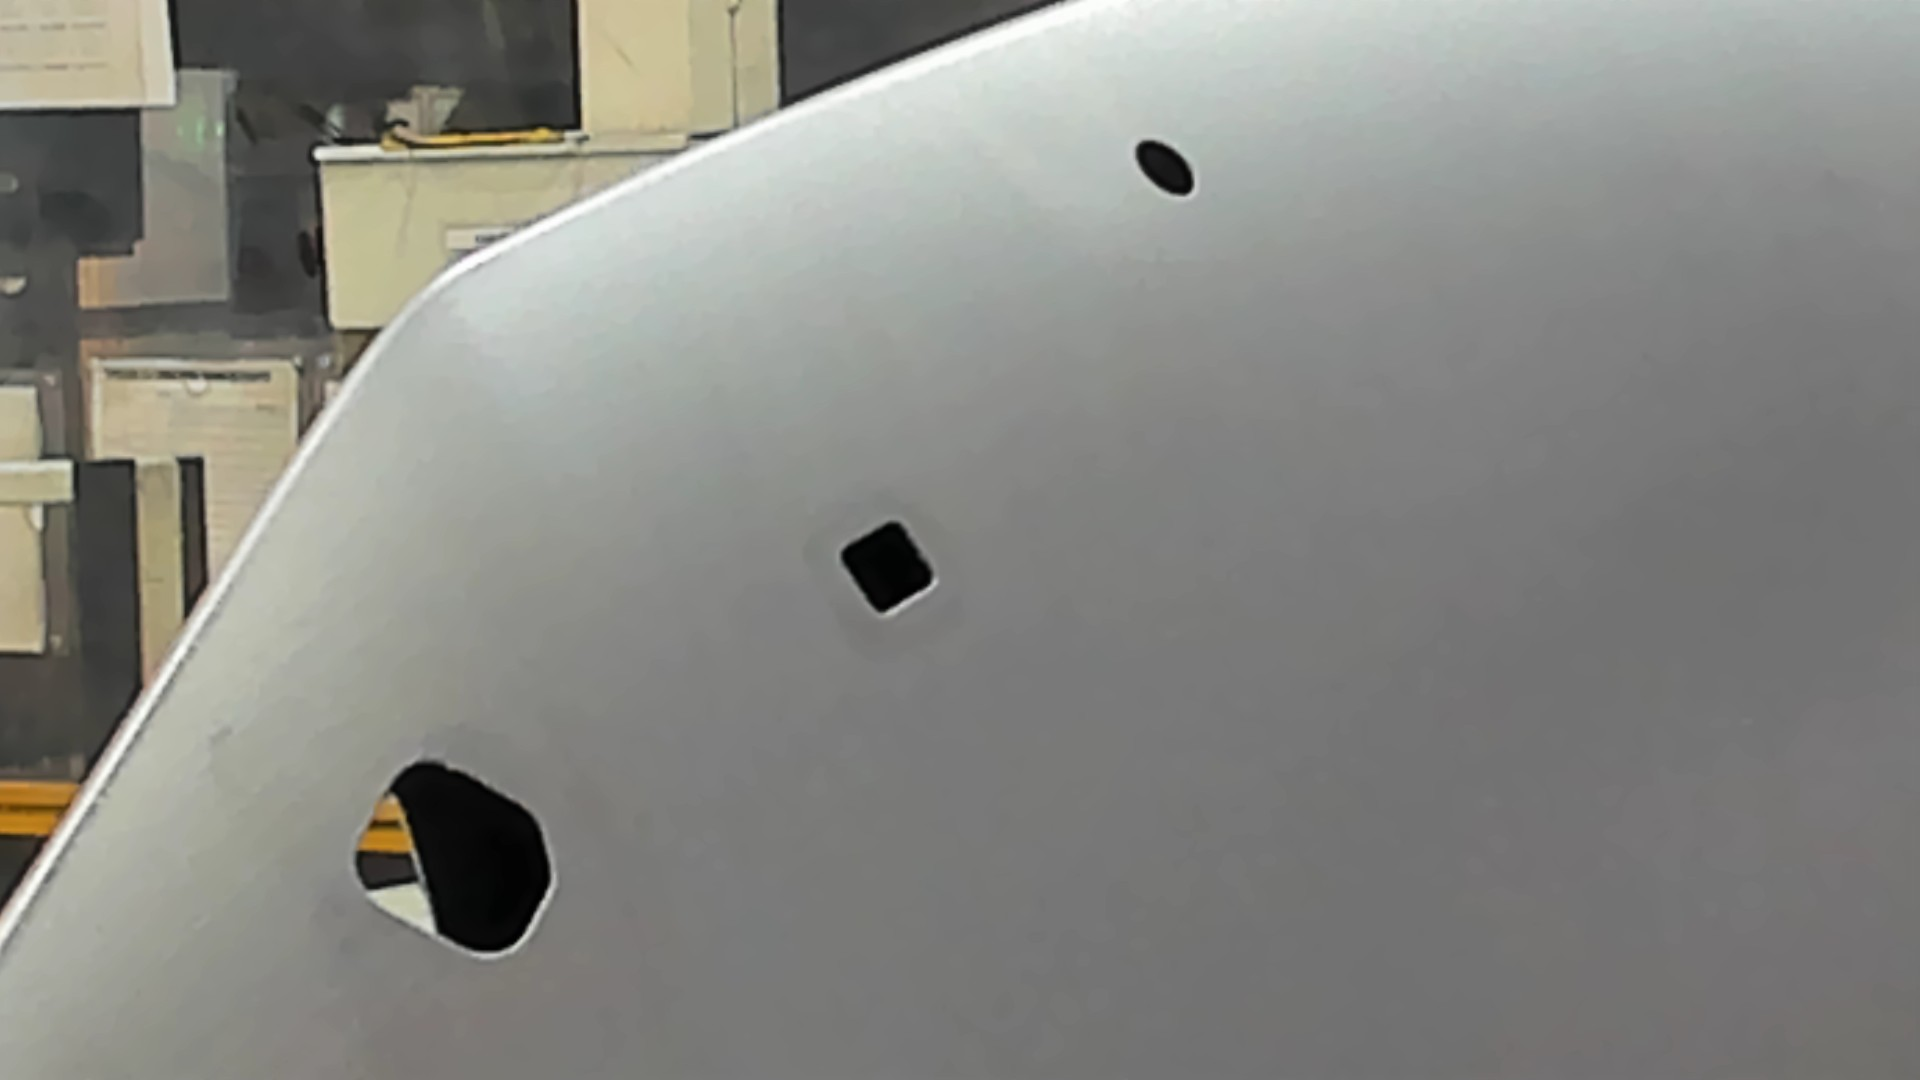Agujero: (837, 520, 938, 617), (1134, 137, 1196, 196)
Agujerote: (353, 757, 559, 961)
